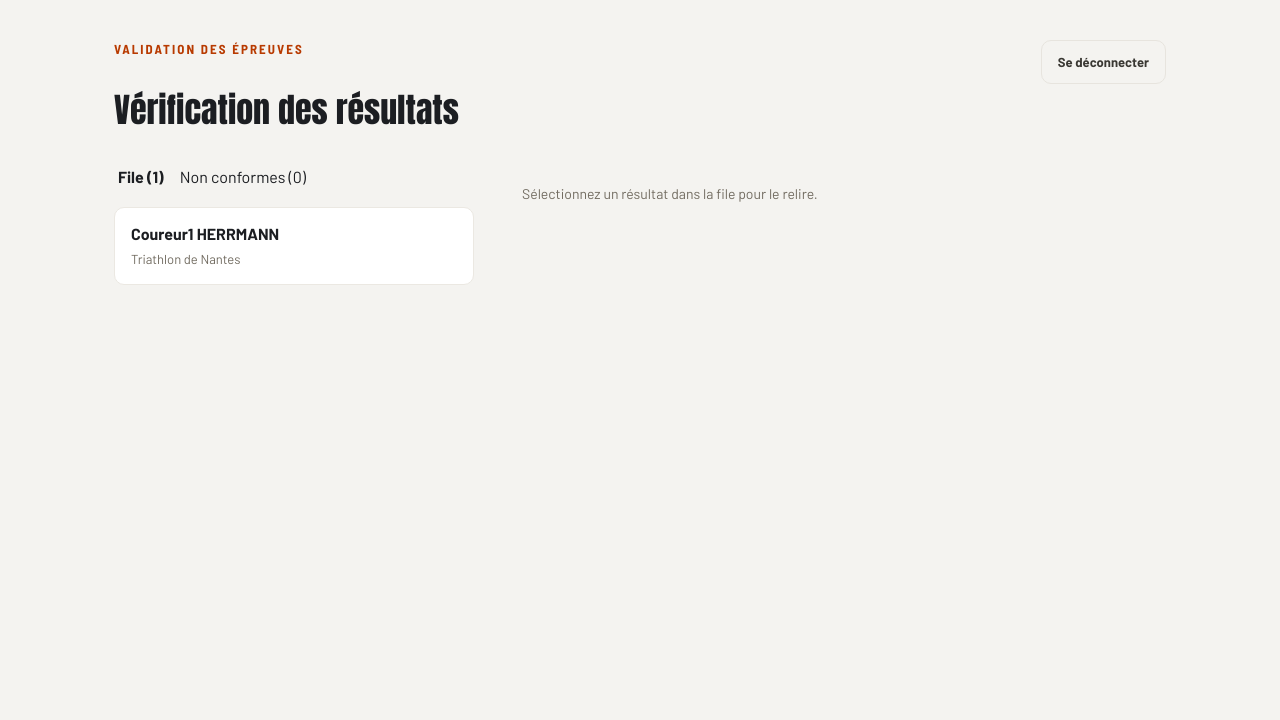
Test case: BenevolesPage › sélectionne un résultat et affiche son panneau de détail
What coordinates should you click on to do the following:
click the button "Coureur1 HERRMANN Triathlon de Nantes"
I would click on:
 (162, 234)
Its box is [114, 207, 474, 284].
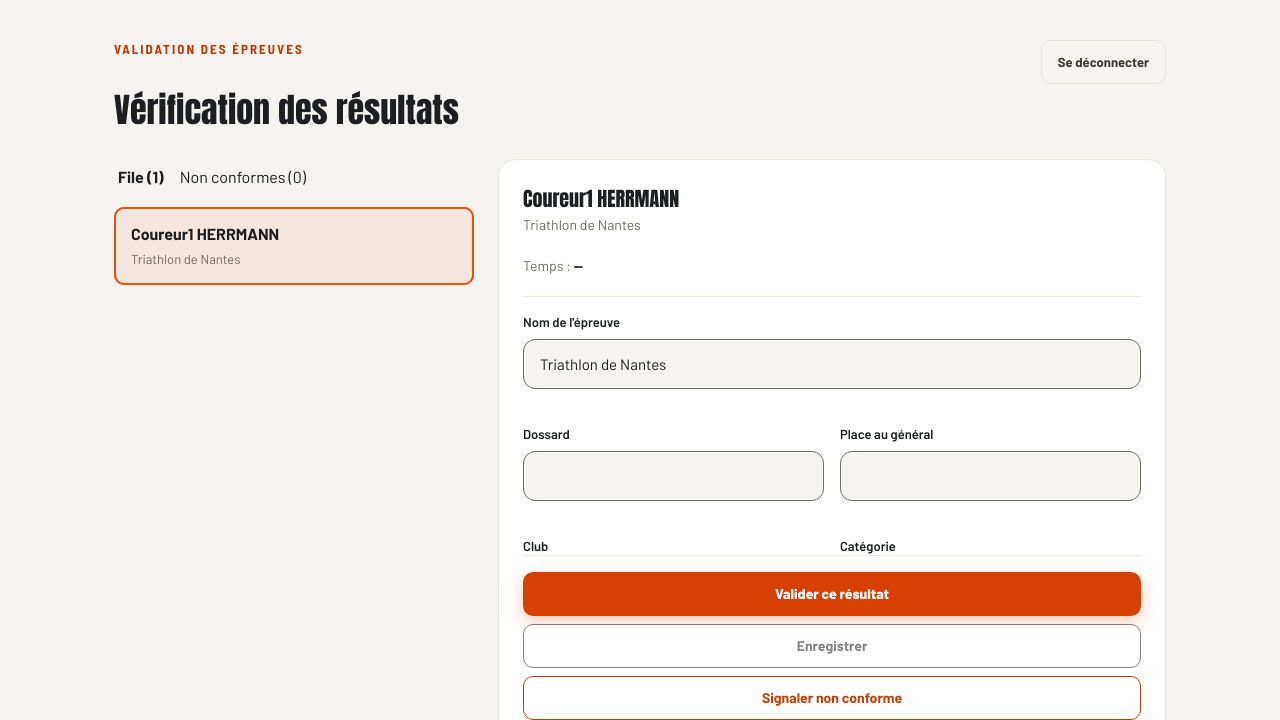
Expected: the button "Valider ce résultat" is shown, [523, 572, 1141, 616]
